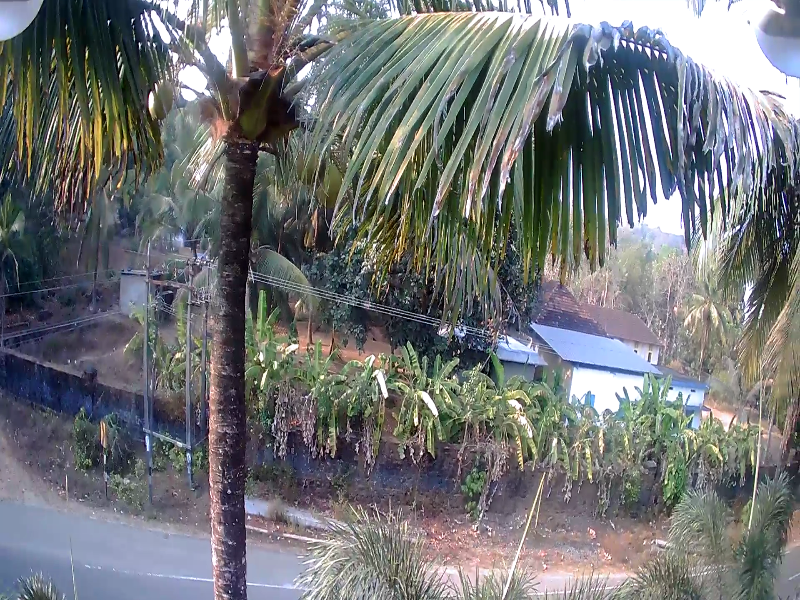coconut: (316, 159, 343, 208), (147, 77, 175, 123), (299, 147, 315, 186)
